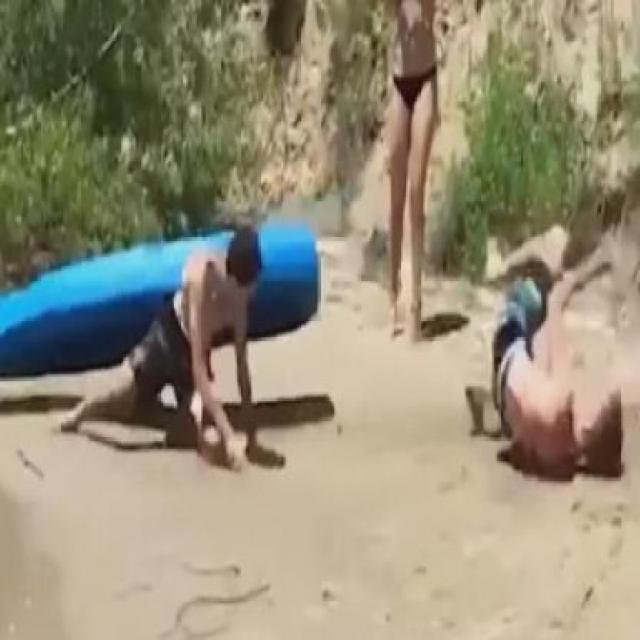fall: (64, 228, 264, 472), (466, 278, 623, 482)
